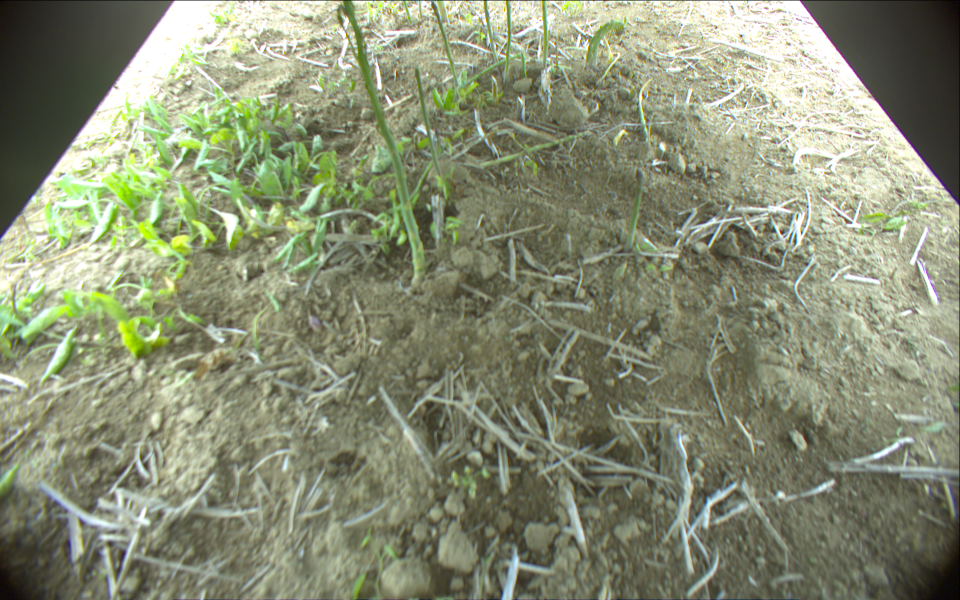aspa: (347, 1, 427, 280), (478, 130, 594, 171), (415, 69, 444, 184), (430, 1, 458, 89), (622, 169, 644, 253), (586, 19, 625, 66), (465, 54, 519, 87), (484, 1, 498, 66), (505, 1, 512, 84), (540, 1, 548, 69), (436, 1, 447, 25), (403, 1, 412, 23), (520, 55, 528, 76), (418, 1, 425, 21)
